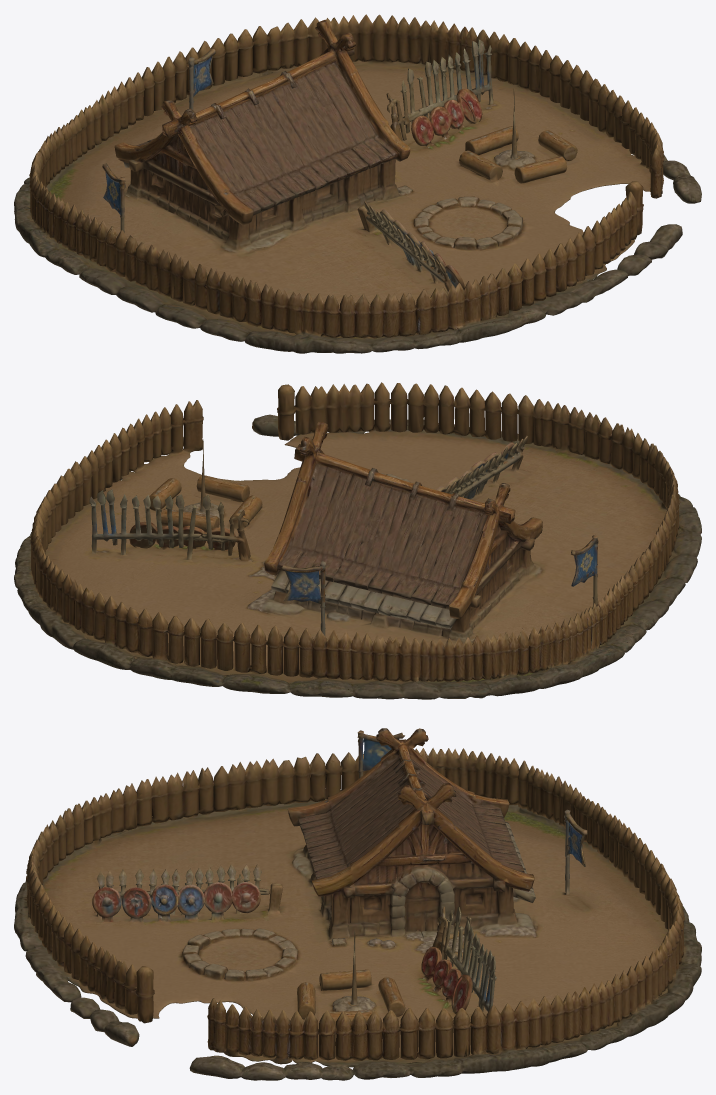
The model's file is tripo_convert_5a94b461-dbc3-4ee5-96bb-73d6035cb984.fbx.
3 renders of one model, top to bottom at view 1: azimuth 30°, elevation 25°; view 2: azimuth 150°, elevation 25°; view 3: azimuth 270°, elevation 25°, orthographic. The views are drawn at different scales.
Visible parts, largest first — view 1: tripo_node_5a94b461; view 2: tripo_node_5a94b461; view 3: tripo_node_5a94b461.
Boxes of the visible parts, <box> form: tripo_node_5a94b461: <box>14,14,701,353</box>; tripo_node_5a94b461: <box>14,382,701,699</box>; tripo_node_5a94b461: <box>14,728,701,1080</box>.
Bounding box in the file's own units: 0.9768 × 0.2552 × 0.9812.
1 material, 1 textured.
